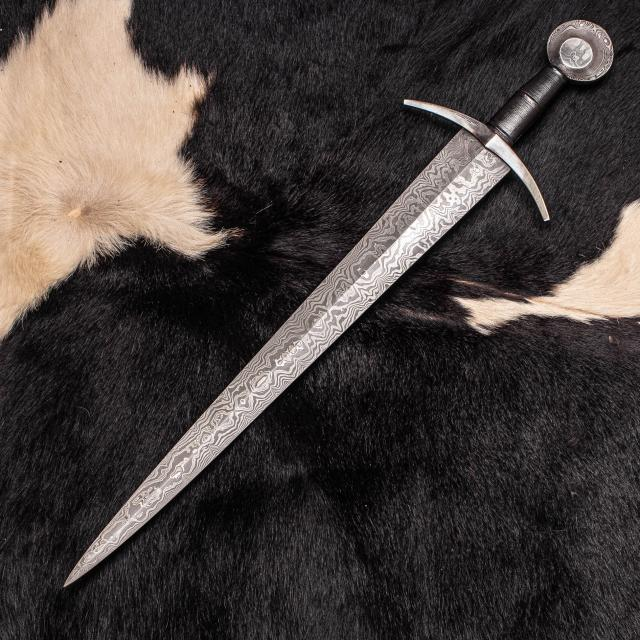Weapon: (65, 20, 612, 585)
